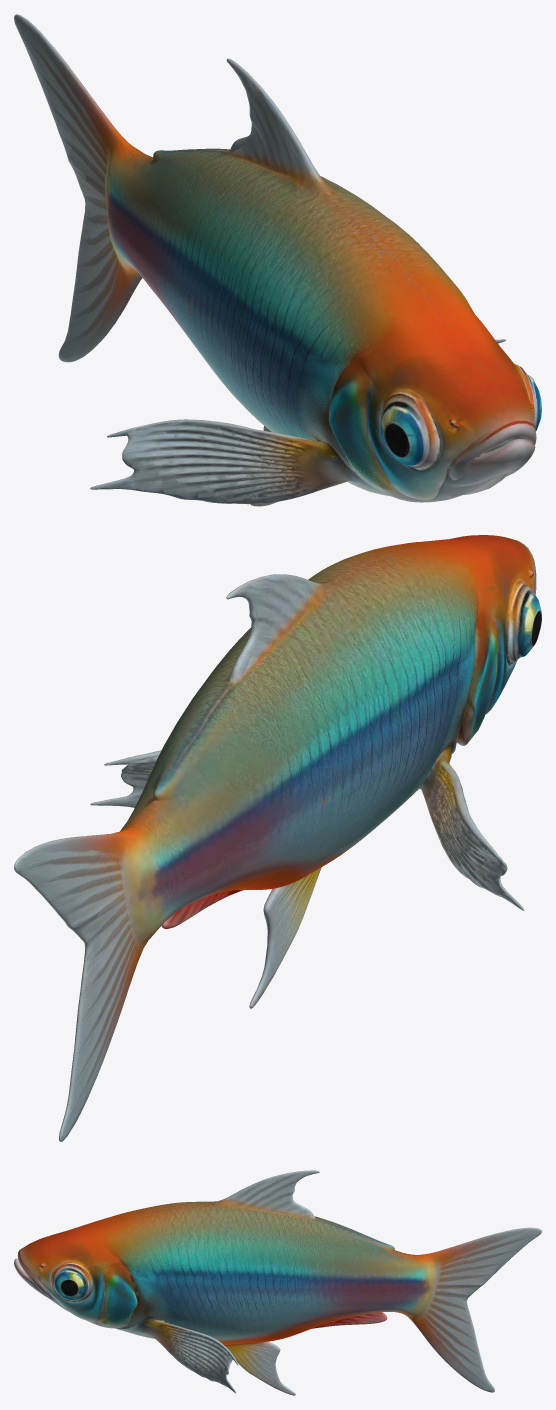
Rendered from Tetra.glb.
3 renders of one model, top to bottom at view 1: azimuth 30°, elevation 25°; view 2: azimuth 150°, elevation 25°; view 3: azimuth 270°, elevation 25°, orthographic. The views are drawn at different scales.
Size of the model in its own units: 0.9434 by 0.8953 by 1.9.
1 material, 1 textured.
